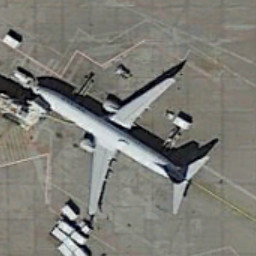Airplane: (20, 61, 218, 226)
